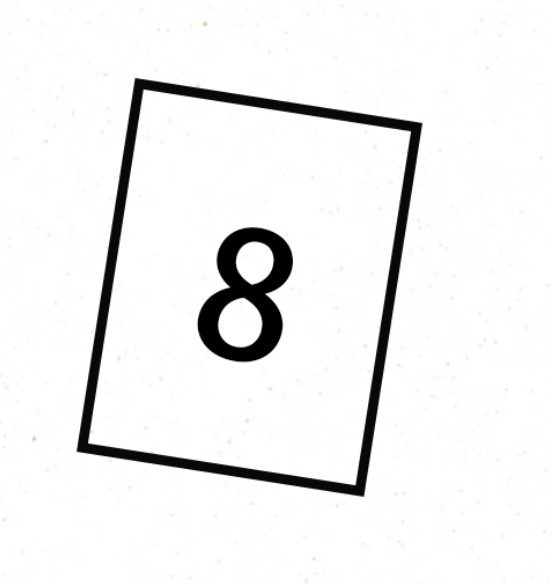eight: (189, 171, 317, 407)
